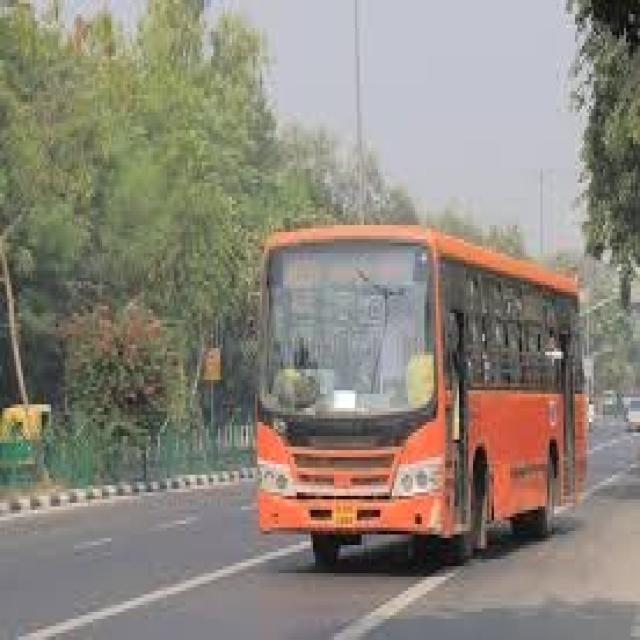bus: (241, 200, 615, 589)
